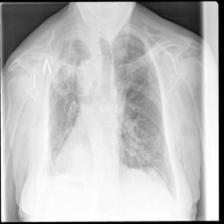tuberculosis: (36, 24, 188, 210)
